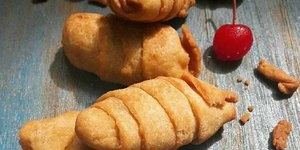pisang_molen: (75, 76, 237, 150)
